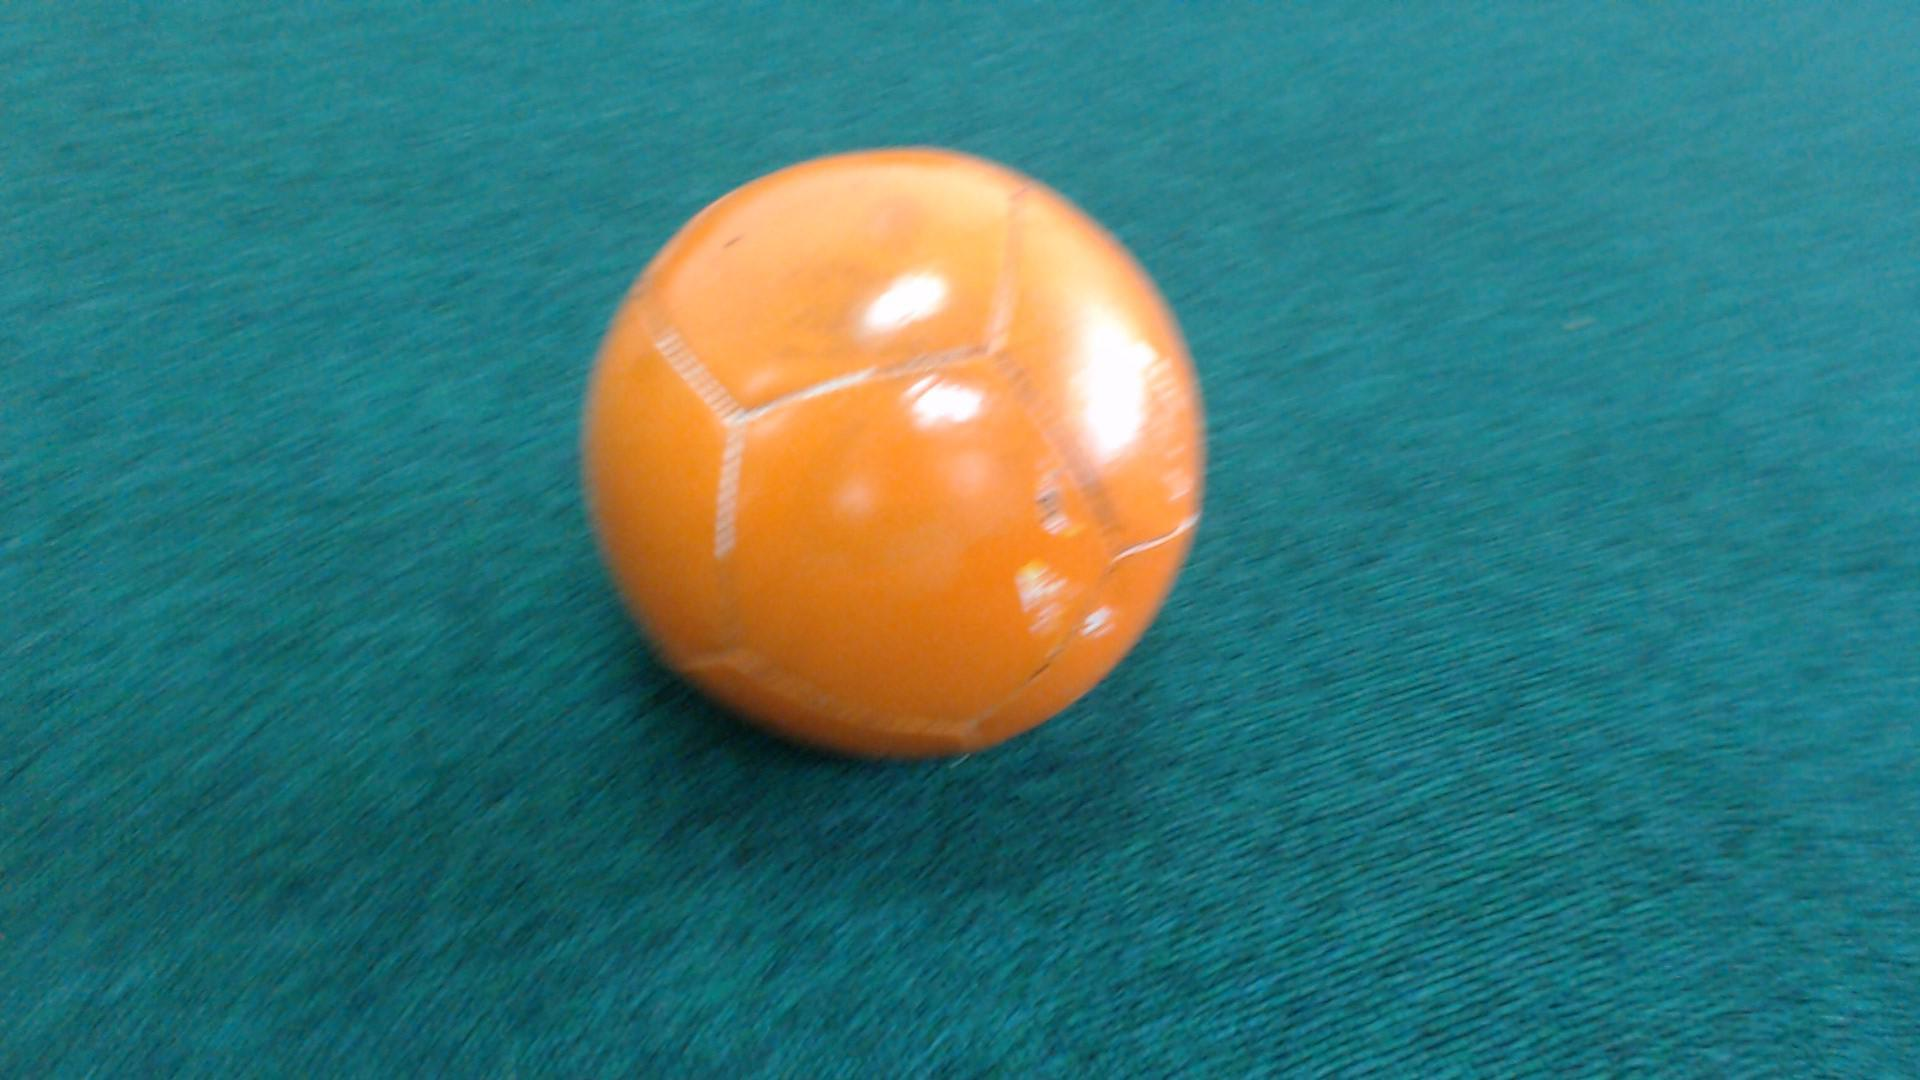bola: (554, 123, 1238, 811)
